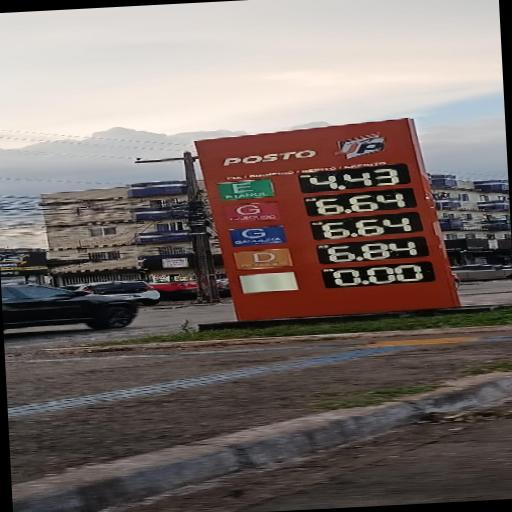ETANOL: (219, 179, 274, 199)
GASOLINA AD: (230, 225, 291, 246)
GASOLINA C: (221, 201, 280, 226)
S10: (232, 249, 293, 269)
placa: (194, 117, 438, 272)
preco: (320, 238, 426, 264), (304, 167, 408, 193), (315, 216, 420, 240), (311, 192, 413, 215)
